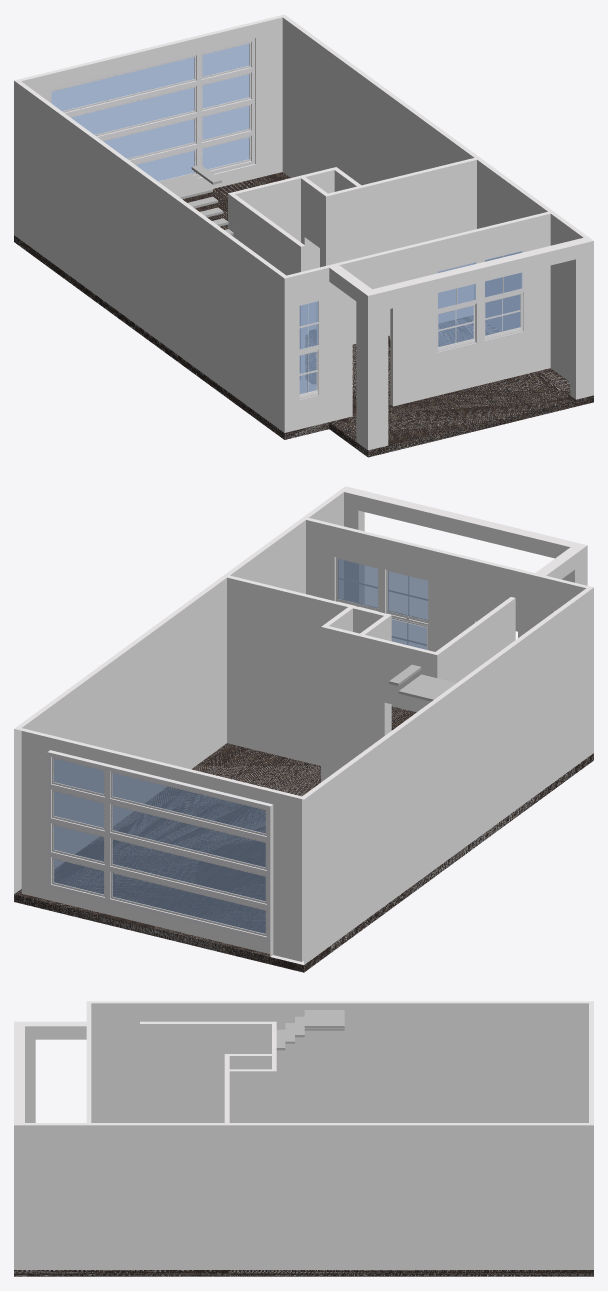
The model's file is orignal.fbx.
The picture shows the model from 3 angles, top to bottom: view 1: azimuth 30°, elevation 25°; view 2: azimuth 150°, elevation 25°; view 3: azimuth 270°, elevation 25°; orthographic projection. The views are drawn at different scales.
Visible parts, largest first — view 1: Group1, Group3, Group2, Group6, Group4, Group5, Group7; view 2: Group1, Group3, Group2, Group6, Group4, Group7; view 3: Group1, Group2, Group7.
Boxes of the visible parts, x1,y1,x2,y2 form: Group1: (14,14,593,450); Group3: (48,38,255,181); Group2: (14,172,593,457); Group6: (436,259,477,353); Group4: (483,248,523,341); Group5: (299,298,319,401); Group7: (159,165,316,393); Group1: (14,486,593,964); Group3: (47,750,272,941); Group2: (14,706,593,972); Group6: (386,569,428,649); Group4: (336,557,377,611); Group7: (389,664,456,701); Group1: (14,1001,593,1269); Group2: (14,1270,593,1276); Group7: (276,1010,344,1047).
Bounding box in the file's own units: 6.17 × 3.52 × 12.21.
